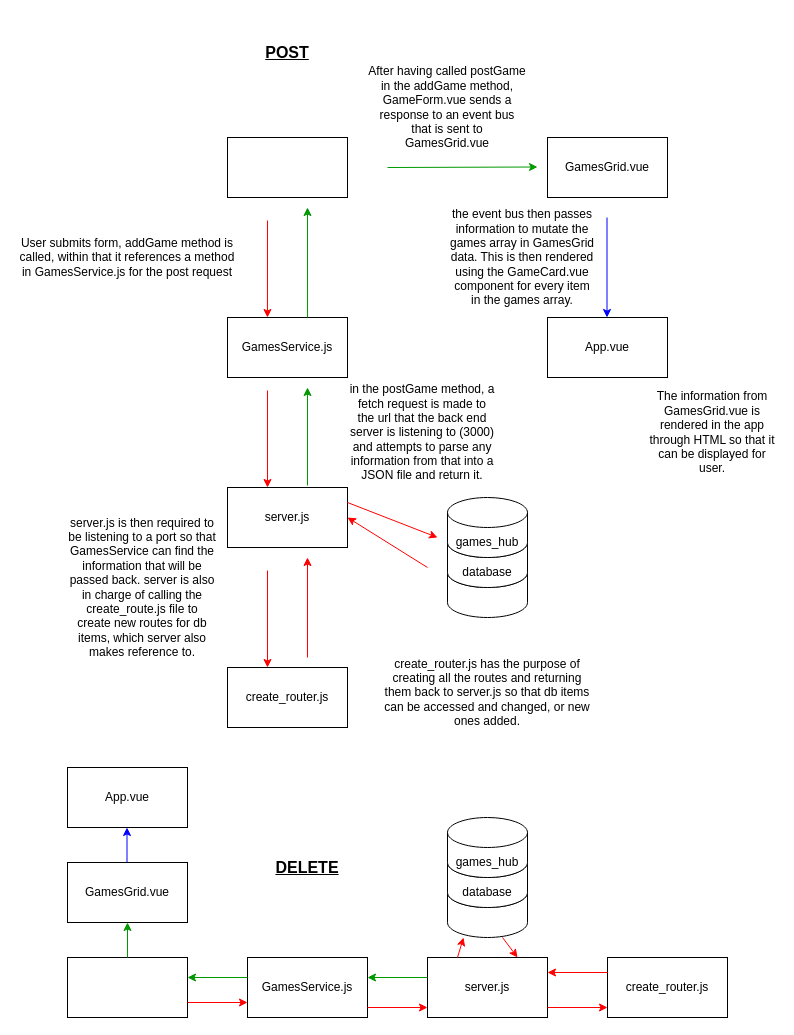
Image size: 794x1035. Some labels were removed from this diagram. The box of each missing label's shape, as (x1, y1, x2, y2) in pixels:
GameCard.vue: (66, 956, 188, 1018)
GameForm.vue: (226, 136, 348, 198)
